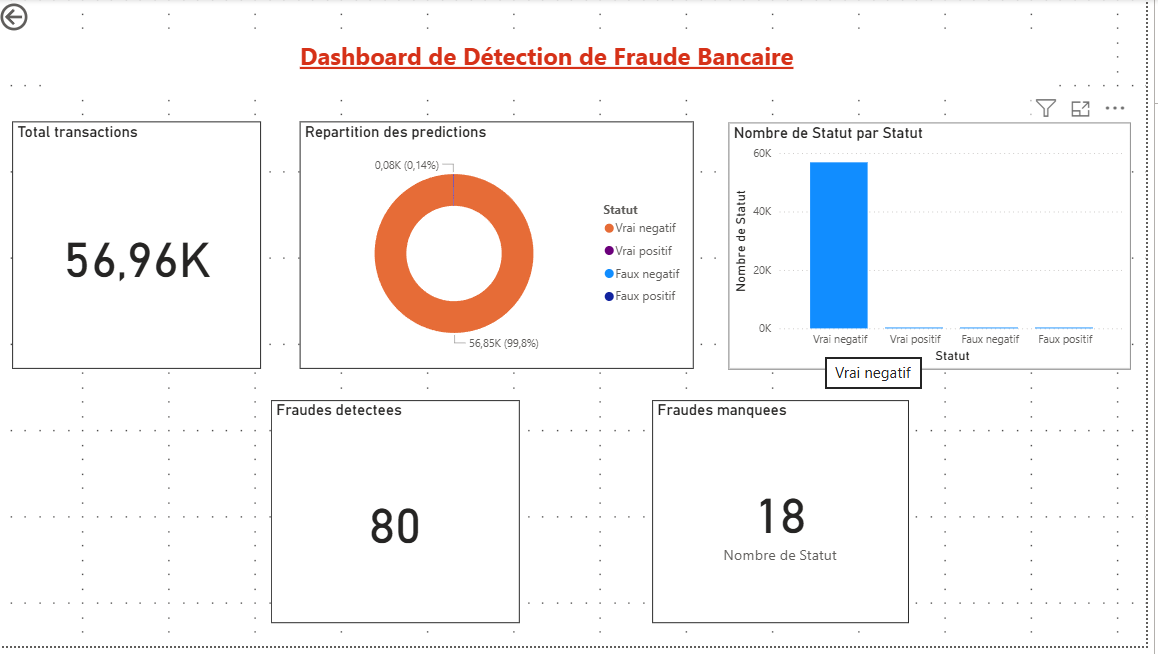

The page's visual inventory and layout, read from the dashboard file:
{"tool":"powerbi","page":{"name":"Page 1","canvas":[1280,720],"ordinal":0},"visuals":[{"type":"card","title":"Total transactions","fields":{"Values":["CountNonNull(resultats_modele.Statut)"]},"box":[17.5,136.3,276.9,275.5],"z":0},{"type":"donutChart","title":"Repartition des predictions","fields":{"Category":["resultats_modele.Statut"],"Y":["CountNonNull(resultats_modele.Statut)"]},"box":[337.5,136.3,438.3,275.5],"z":1000},{"type":"clusteredColumnChart","fields":{"Category":["resultats_modele.Statut"],"Y":["CountNonNull(resultats_modele.Statut)"]},"box":[814.7,137.7,448,274.1],"z":2000},{"type":"card","title":"Fraudes detectees","fields":{"Values":["CountNonNull(resultats_modele.Statut)"]},"box":[306.1,446.6,276.9,247.7],"z":3000},{"type":"actionButton","box":[0,0,100,40],"z":4000},{"type":"card","title":"Fraudes manquees","fields":{"Values":["CountNonNull(resultats_modele.Statut)"]},"box":[729.9,446.6,285.2,247.7],"z":4001},{"type":"textbox","box":[50.1,40.3,1125.6,61.2],"z":4005}]}

Visuals, with their boxes in screenshot pixels (x1, y1, x2, y2):
"Total transactions" card: locate(13, 149, 260, 395)
"Repartition des predictions" donutChart: locate(298, 149, 689, 395)
clusteredColumnChart - resultats_modele.Statut x CountNonNull(resultats_modele.Statut): locate(724, 150, 1124, 395)
"Fraudes detectees" card: locate(270, 426, 517, 647)
actionButton: locate(0, 27, 86, 63)
"Fraudes manquees" card: locate(648, 426, 903, 647)
textbox: locate(42, 63, 1046, 118)
